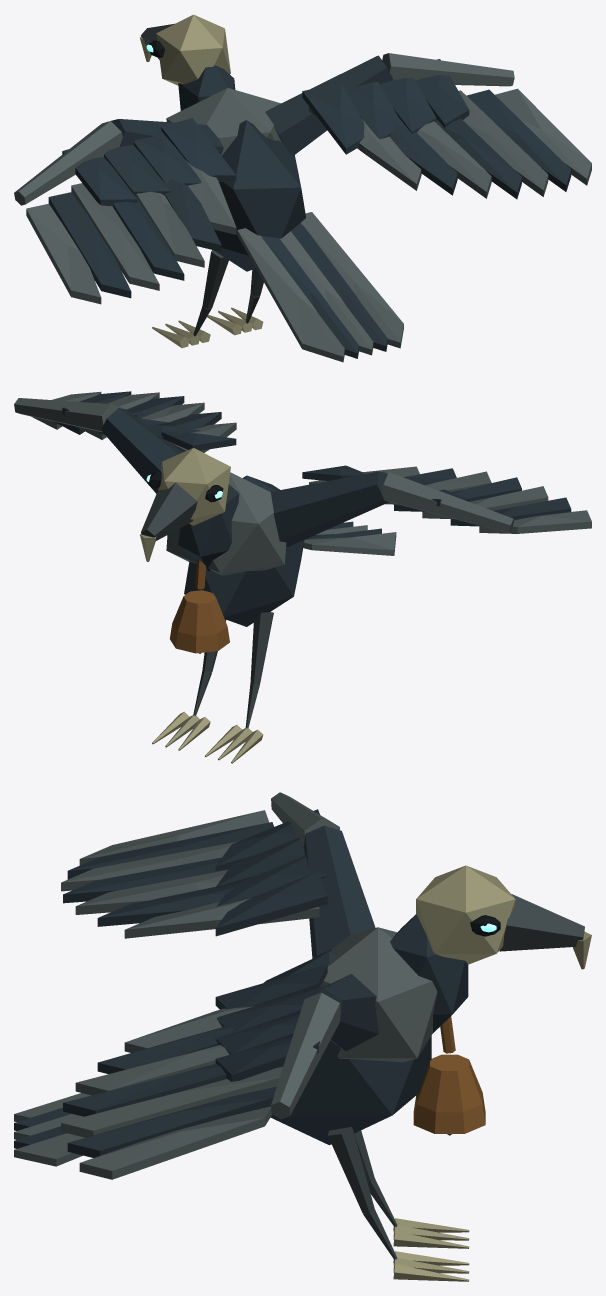
The model's file is gallows_raven.glb.
3 views of the same model, one above another, from view 1: azimuth 30°, elevation 25°; view 2: azimuth 150°, elevation 25°; view 3: azimuth 270°, elevation 25° (orthographic). The views are drawn at different scales.
Parts seen in each view (by area): view 1: gallows_raven_AnimatedMesh; view 2: gallows_raven_AnimatedMesh; view 3: gallows_raven_AnimatedMesh.
Boxes of the visible parts, x1,y1,x2,y2 form: gallows_raven_AnimatedMesh: (14,14,591,362); gallows_raven_AnimatedMesh: (14,391,591,763); gallows_raven_AnimatedMesh: (14,792,591,1281).
Bounding box in the file's own units: 2.37 × 1.33 × 1.78.
